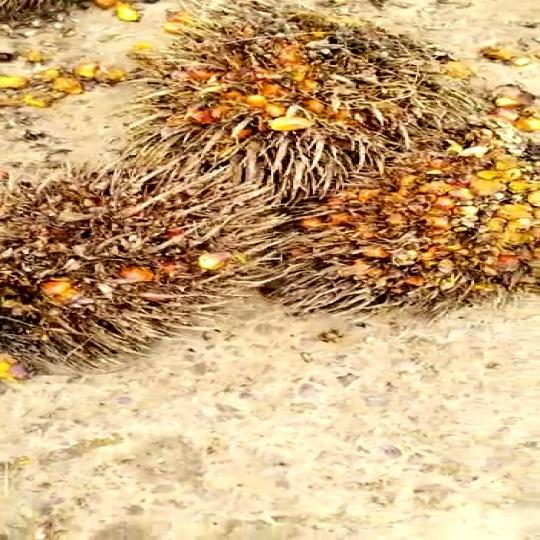terlalu masak: (129, 0, 471, 184), (267, 128, 540, 319)
